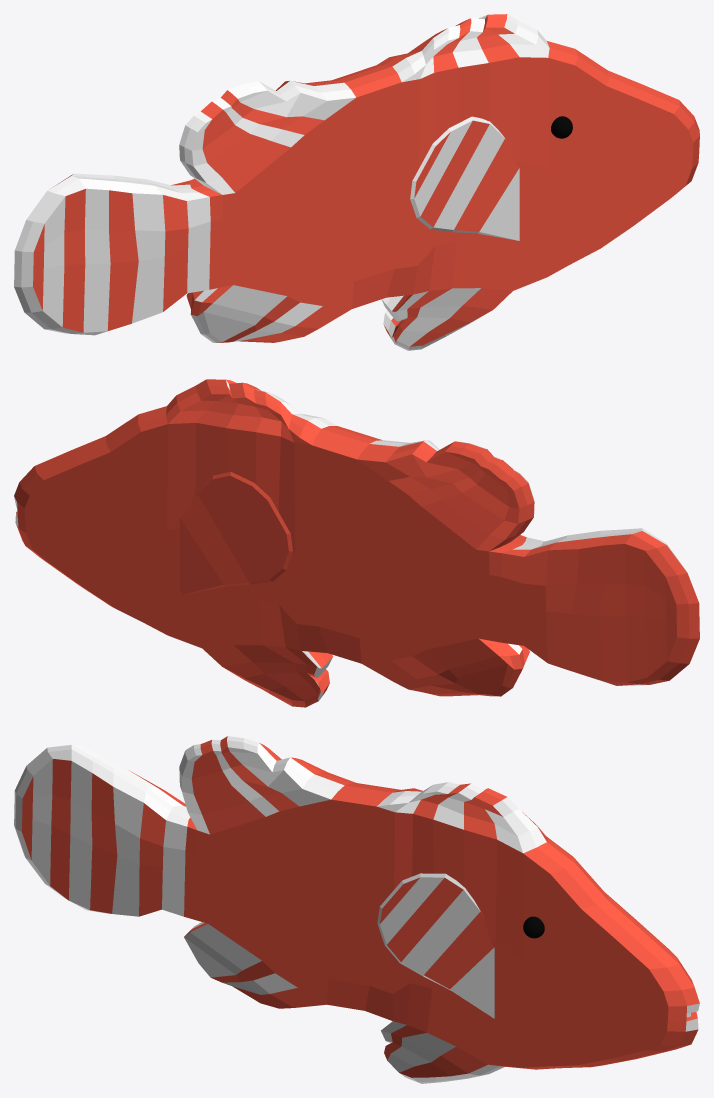
Rendered from Fish.fbx.
The picture shows the model from 3 angles, top to bottom: view 1: azimuth 30°, elevation 25°; view 2: azimuth 150°, elevation 25°; view 3: azimuth 330°, elevation 25°; orthographic projection. The views are drawn at different scales.
Parts seen in each view (by area): view 1: Fish; view 2: Fish; view 3: Fish.
Boxes of the visible parts, box(x1,y1,x2,y2) form: Fish: box(14, 14, 699, 350); Fish: box(14, 379, 699, 707); Fish: box(14, 736, 699, 1083).
Bounding box in the file's own units: 22.75 × 10 × 2.
